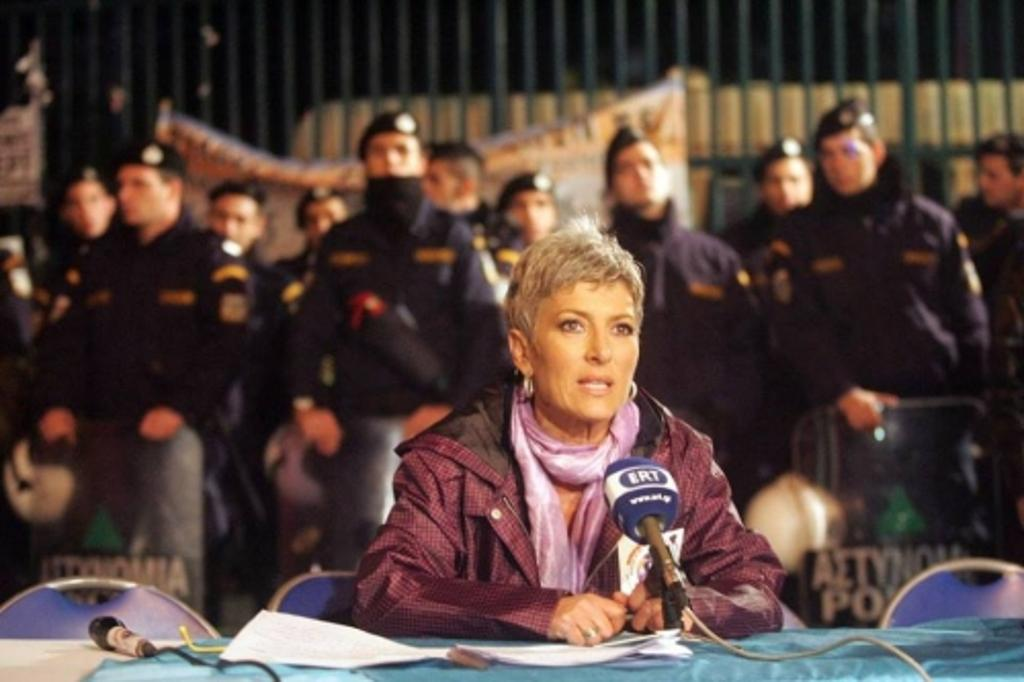face: (530, 282, 640, 420), (365, 133, 421, 205), (821, 130, 875, 197), (616, 143, 663, 204), (117, 165, 163, 227), (212, 195, 257, 254), (765, 157, 812, 212), (67, 181, 109, 238), (305, 199, 345, 248), (513, 191, 550, 241), (979, 155, 1015, 206), (423, 160, 451, 209)
